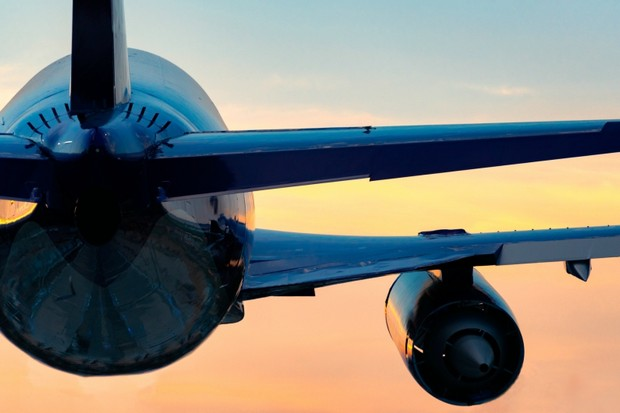aeroplane: (1, 1, 616, 393)
